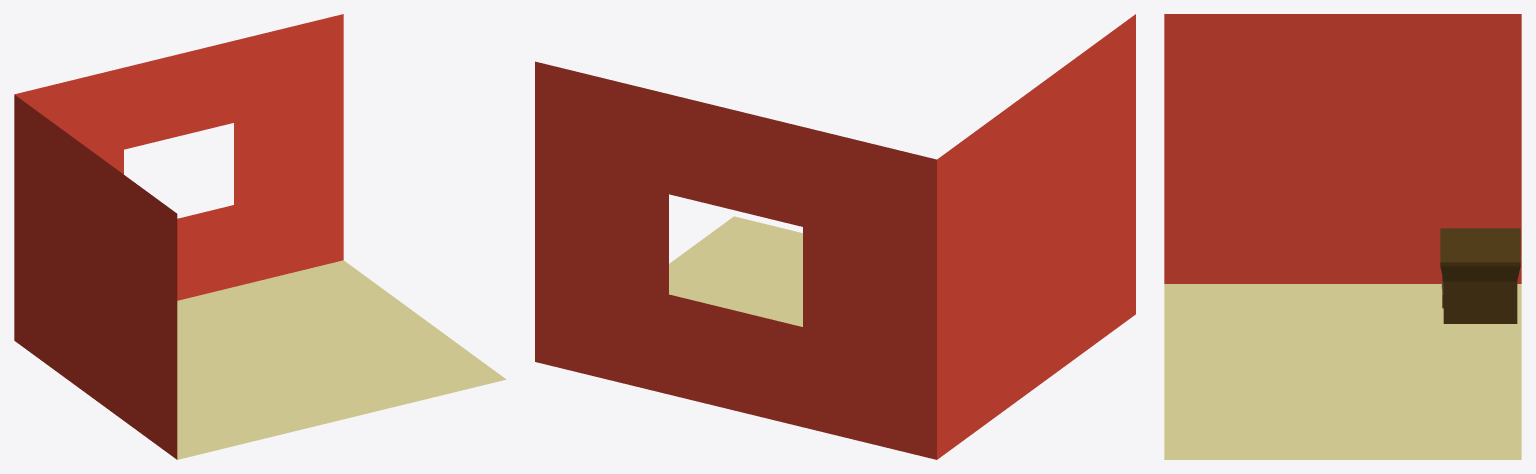
The model's file is Nightstand.fbx.
3 views of the same model, side by side, from view 1: azimuth 30°, elevation 25°; view 2: azimuth 150°, elevation 25°; view 3: azimuth 270°, elevation 25° (orthographic). The views are drawn at different scales.
Visible parts, largest first — view 1: Room; view 2: Room; view 3: Room, NightStand_Base.
Part boxes in pixels (x1=…): Room: x1=14, y1=14, x2=506, y2=459; Room: x1=535, y1=14, x2=1135, y2=459; Room: x1=1164, y1=14, x2=1521, y2=459; NightStand_Base: x1=1440, y1=228, x2=1520, y2=323.
Bounding box in the file's own units: 700 × 500 × 600.
